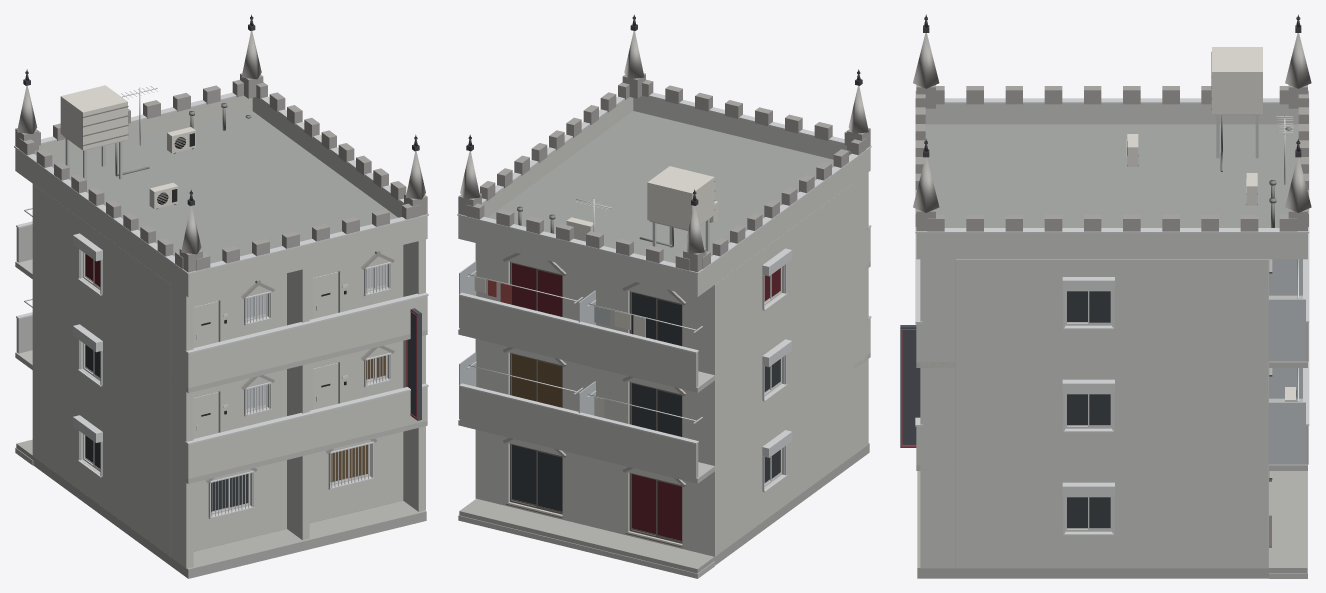
Rendered from blk_skyline5.glb.
3 renders of one model, left to right at view 1: azimuth 30°, elevation 25°; view 2: azimuth 150°, elevation 25°; view 3: azimuth 270°, elevation 25°, orthographic. The views are drawn at different scales.
Parts seen in each view (by area): view 1: blk_skyline5; view 2: blk_skyline5; view 3: blk_skyline5.
Boxes of the visible parts, x1,y1,x2,y2 form: blk_skyline5: [14, 14, 428, 578]; blk_skyline5: [457, 14, 871, 578]; blk_skyline5: [900, 14, 1311, 578].
Size of the model in its own units: 8.46 by 12.3 by 10.5.
